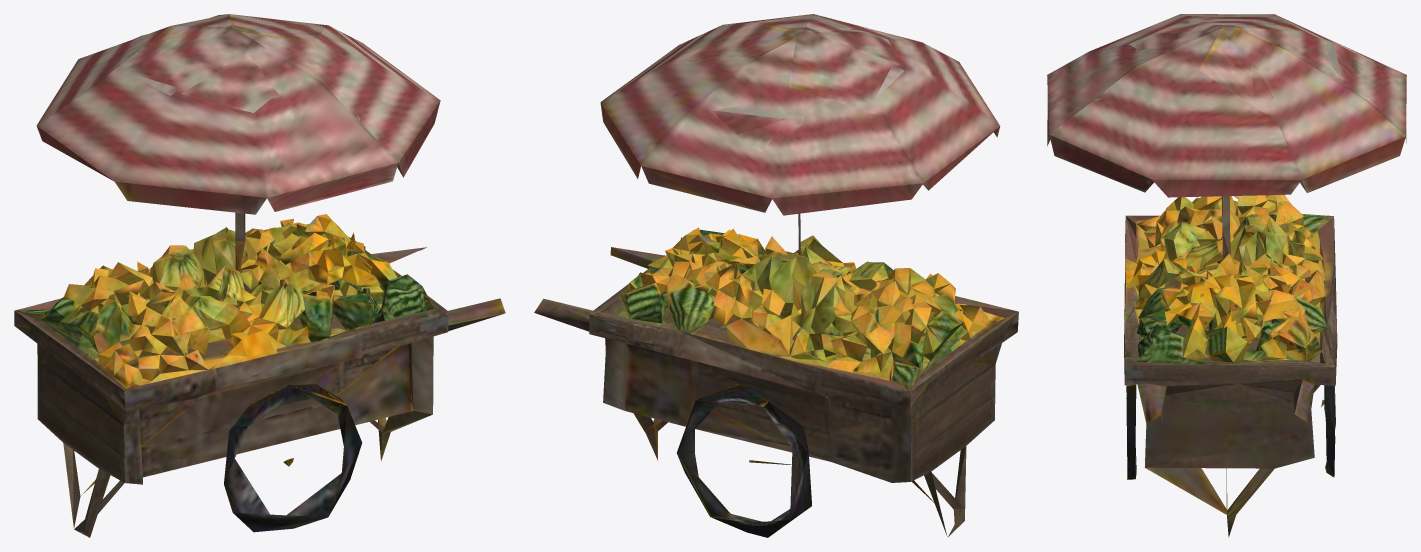
The model's file is fruitcart.glb.
3 renders of one model, left to right at view 1: azimuth 30°, elevation 25°; view 2: azimuth 150°, elevation 25°; view 3: azimuth 270°, elevation 25°, orthographic. The views are drawn at different scales.
Bounding box in the file's own units: 1.66 × 1.87 × 1.38.
Materials: 1 (1 with a texture image).
